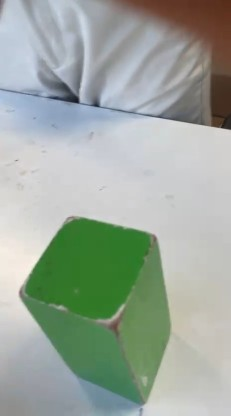green: (20, 198, 166, 402)
